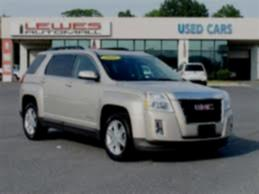GMC: (190, 100, 220, 112)
